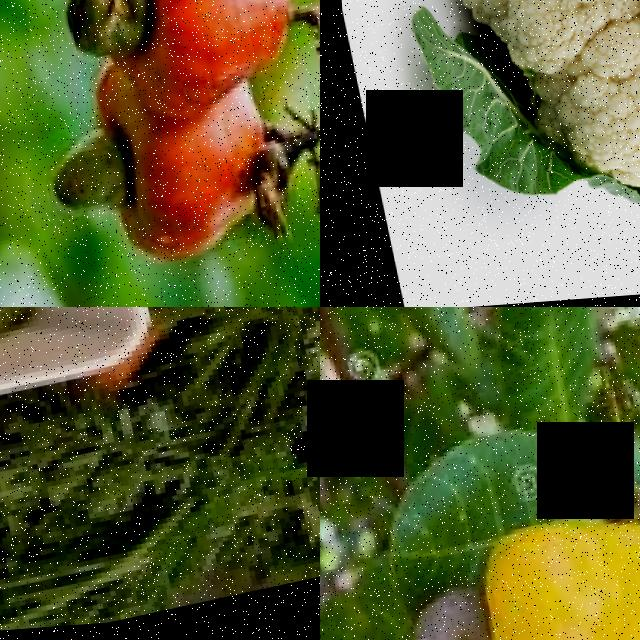cashew: (35, 111, 143, 259), (47, 0, 166, 109), (384, 564, 507, 640)
cauliflower: (397, 0, 640, 267)
